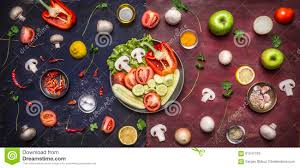Onion: (201, 115, 219, 140)
Tomato: (277, 8, 296, 24)
